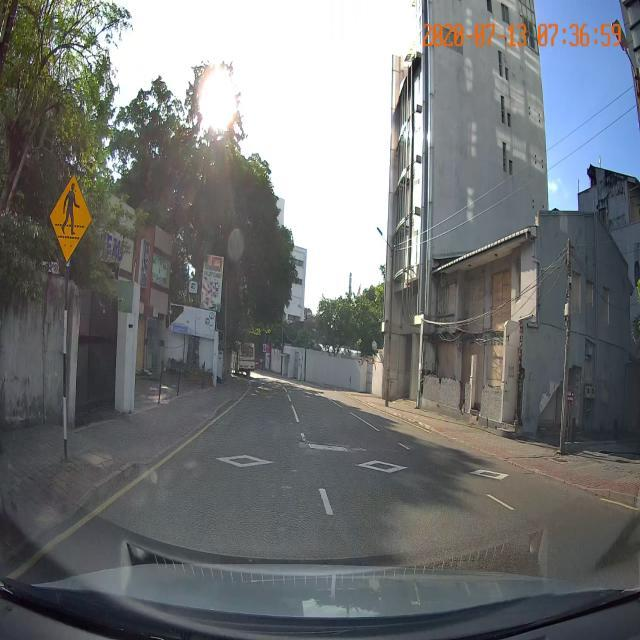diamond: (143, 425, 328, 490)
